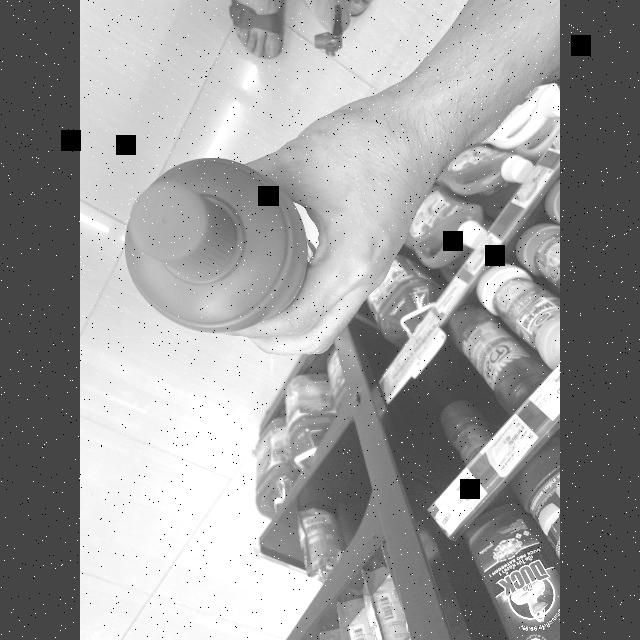chemical_plastic_bottle: (122, 152, 340, 354)
